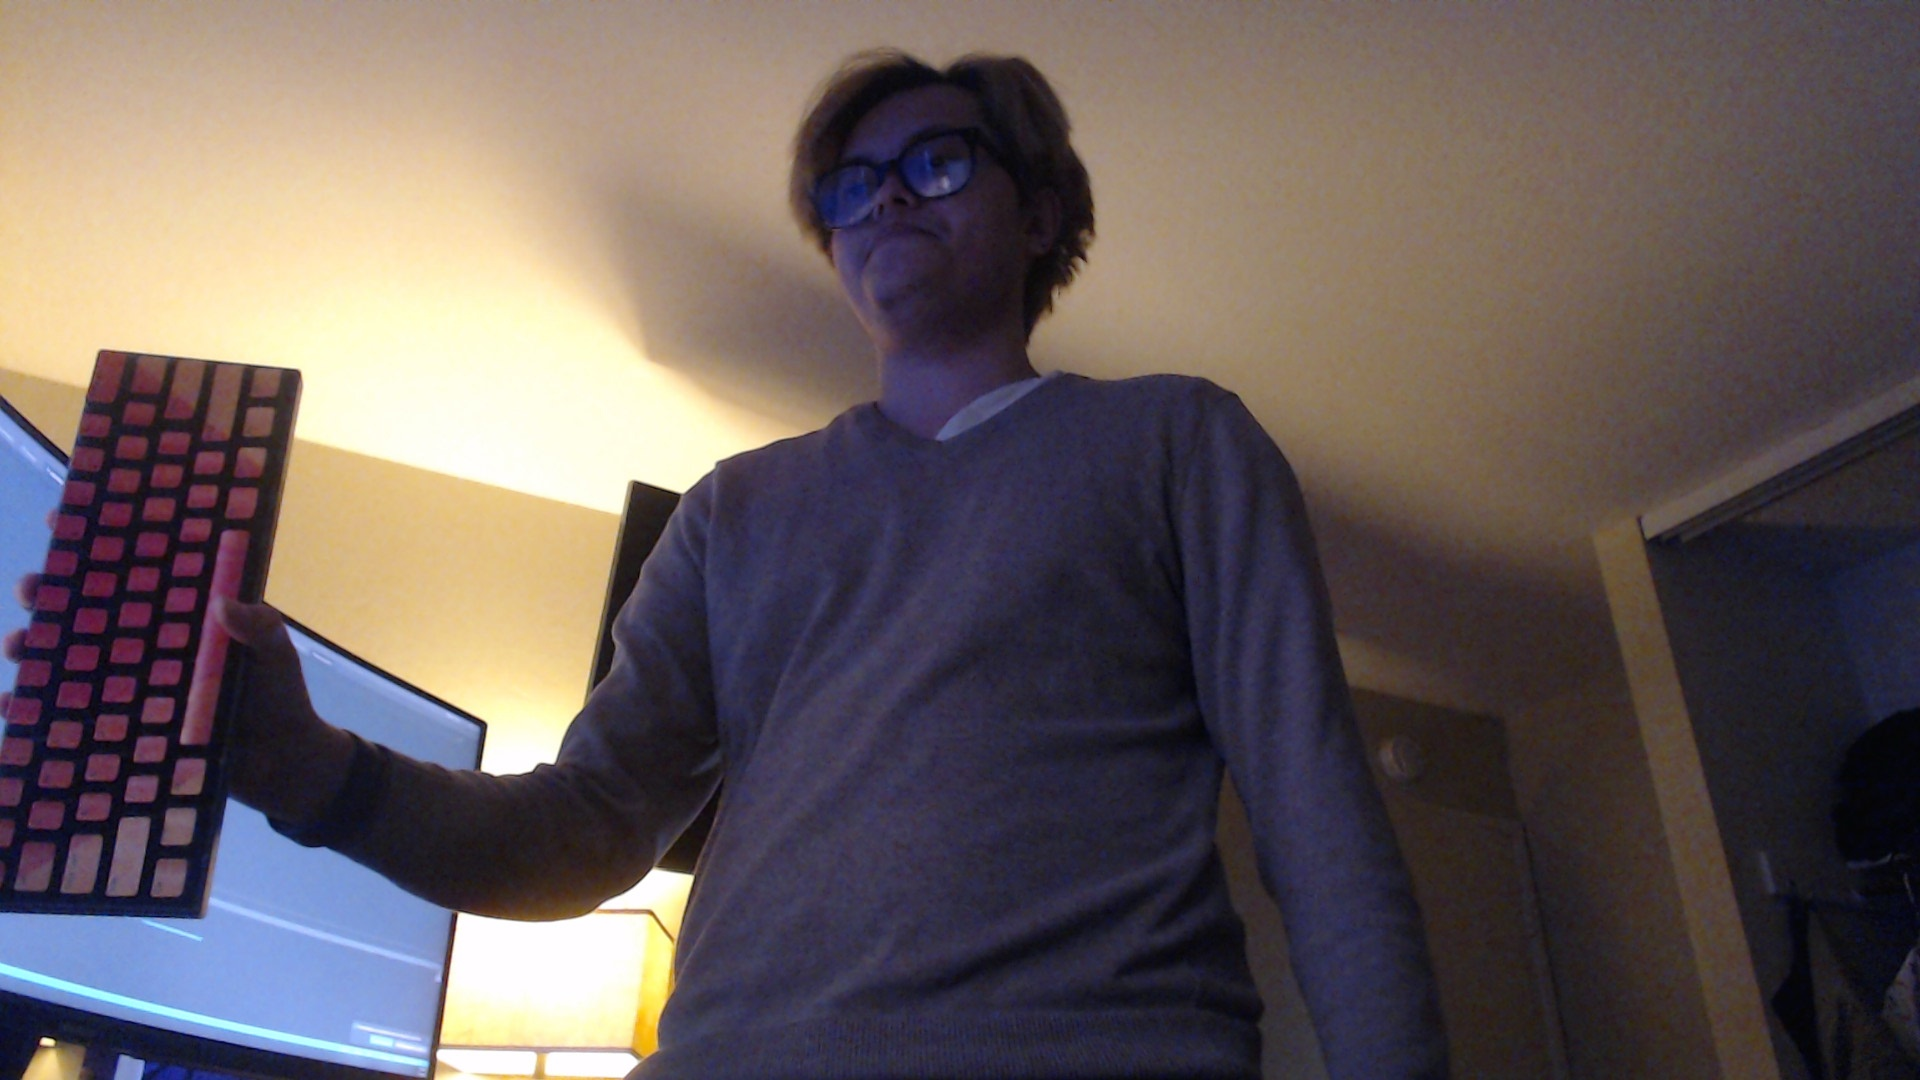keyboard: (1, 344, 307, 923)
